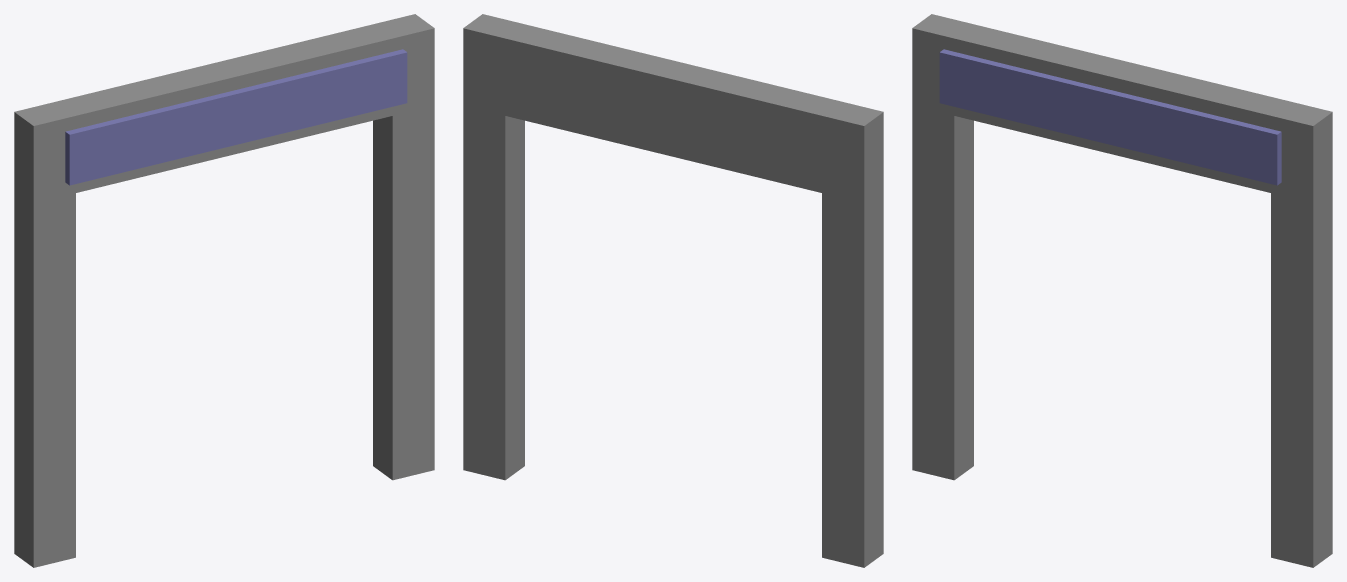
Rendered from door_frame.glb.
3 renders of one model, left to right at view 1: azimuth 30°, elevation 25°; view 2: azimuth 150°, elevation 25°; view 3: azimuth 330°, elevation 25°, orthographic.
Parts seen in each view (by area): view 1: door_frame; view 2: door_frame; view 3: door_frame.
Boxes of the visible parts, x1=… form: door_frame: x1=14, y1=14, x2=434, y2=567; door_frame: x1=463, y1=14, x2=883, y2=567; door_frame: x1=912, y1=14, x2=1332, y2=567.
Size of the model in its own units: 3.8 by 4 by 0.39.
